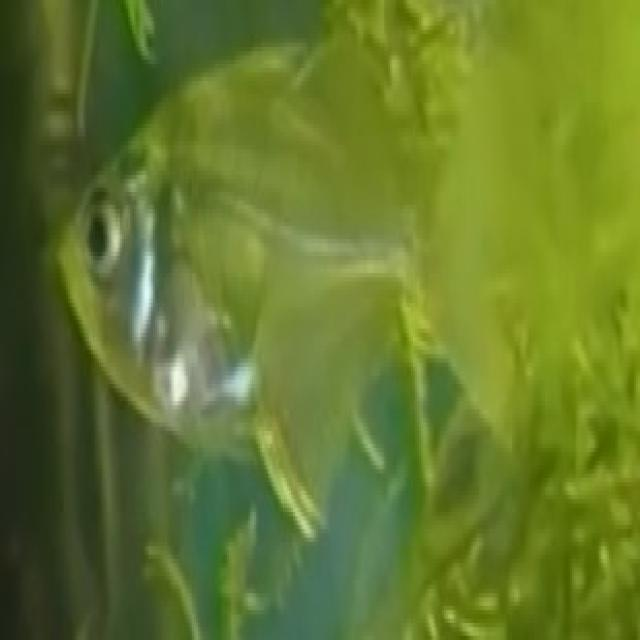Glass-Perchlet: (47, 68, 540, 507)
